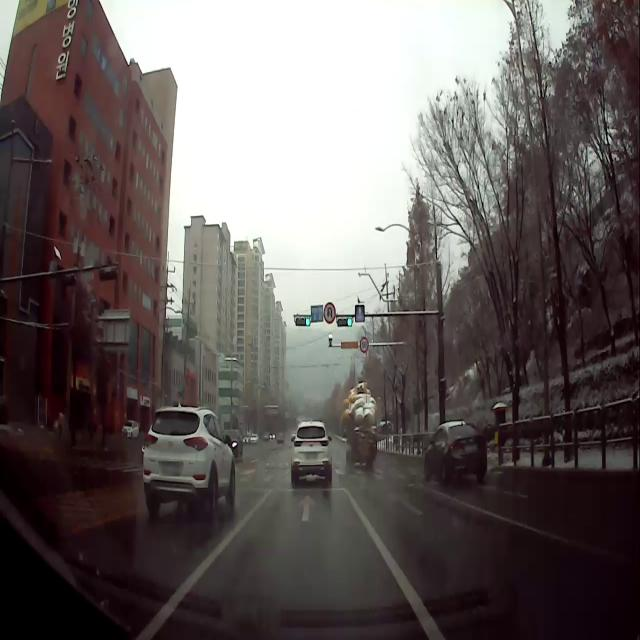Green Light: (304, 316, 310, 327), (347, 318, 352, 327)
